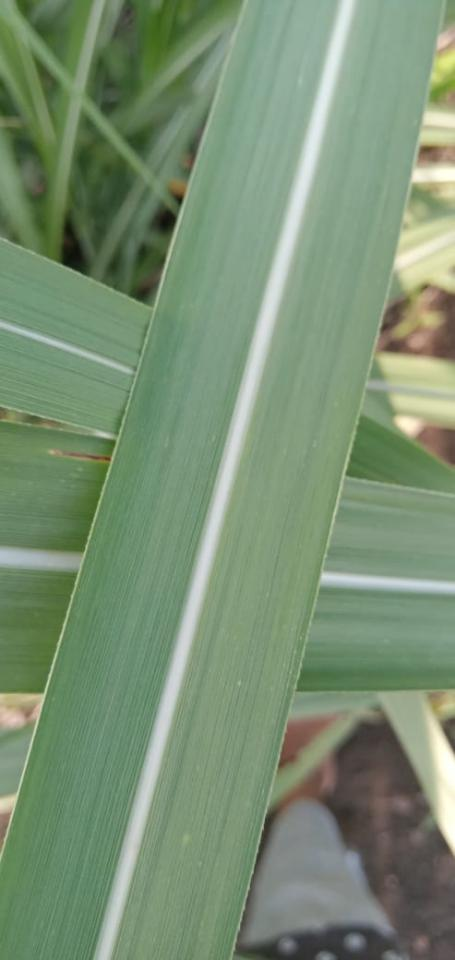Healthy: (0, 0, 342, 959), (113, 0, 444, 959), (1, 237, 156, 372), (298, 588, 454, 690), (0, 328, 137, 437), (0, 422, 110, 552), (324, 477, 454, 581), (0, 570, 78, 693), (347, 415, 454, 492), (27, 424, 118, 456)
Rust: (48, 450, 110, 464)
